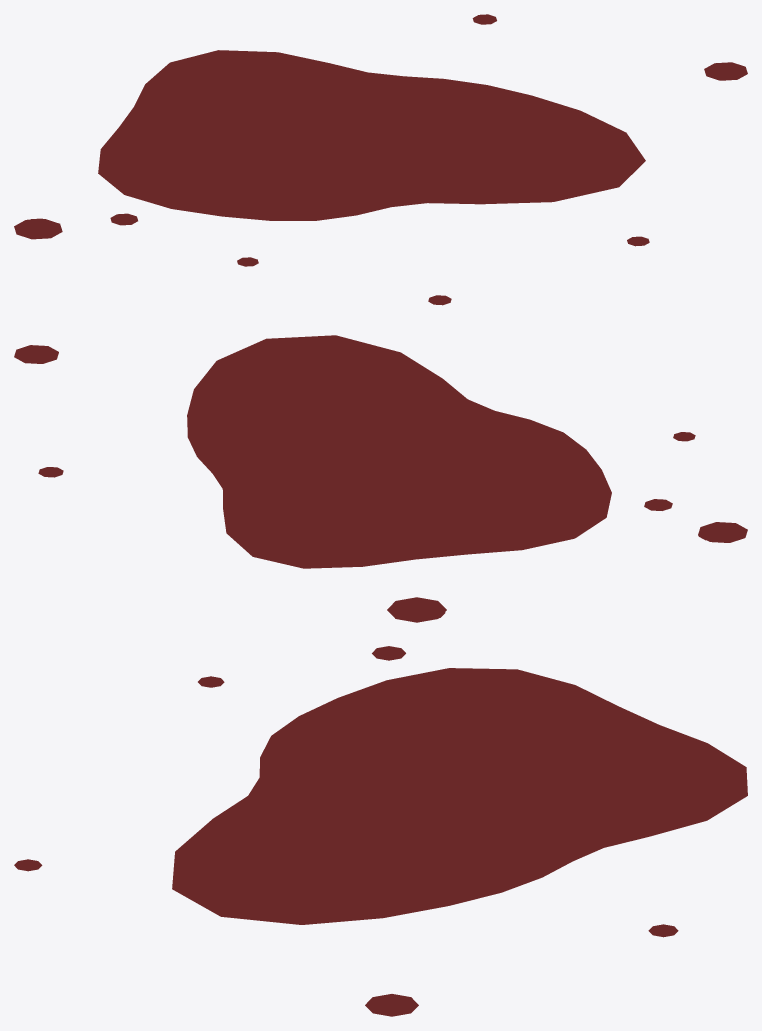
File: decal_blood2.glb
The picture shows the model from 3 angles, top to bottom: view 1: azimuth 30°, elevation 25°; view 2: azimuth 150°, elevation 25°; view 3: azimuth 270°, elevation 25°; orthographic projection. The views are drawn at different scales.
Parts seen in each view (by area): view 1: decal_blood2; view 2: decal_blood2; view 3: decal_blood2.
Part boxes in pixels (x1,y1,x2,y2): decal_blood2: (14, 14, 747, 266); decal_blood2: (14, 295, 747, 568); decal_blood2: (14, 597, 747, 1016).
Size of the model in its own units: 1.2 by 0 by 0.8838.
